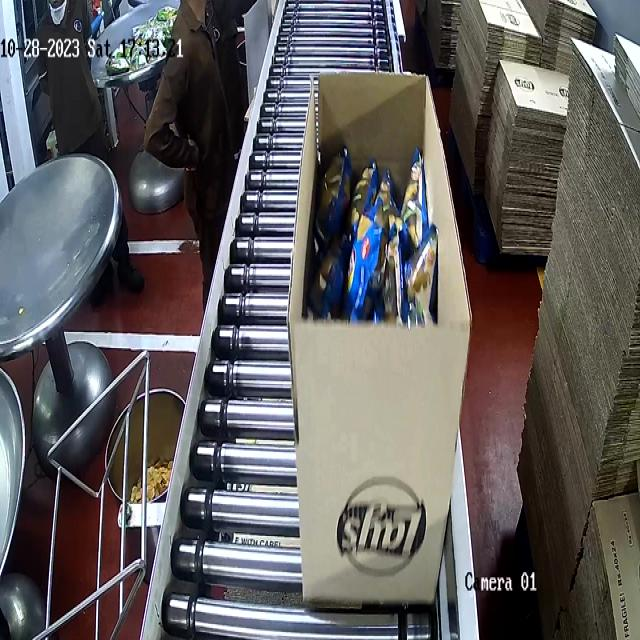PAPRIKA: (309, 141, 437, 325)
